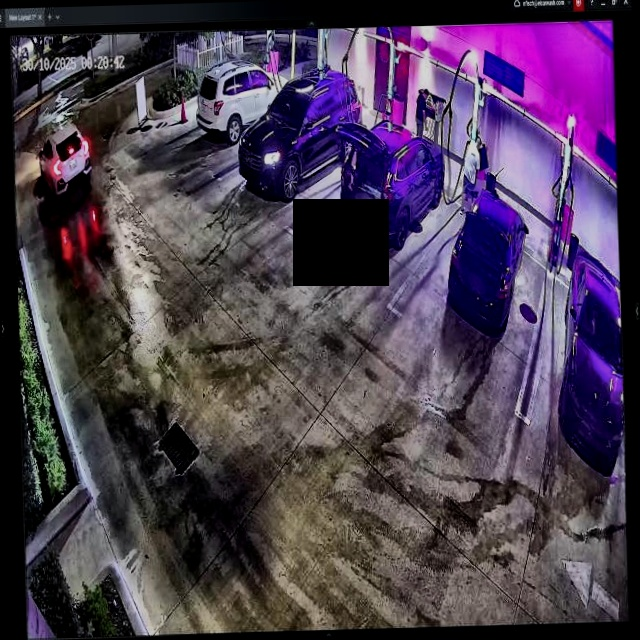Car: (240, 69, 363, 201), (339, 118, 447, 247), (446, 180, 528, 331), (193, 58, 291, 143)
